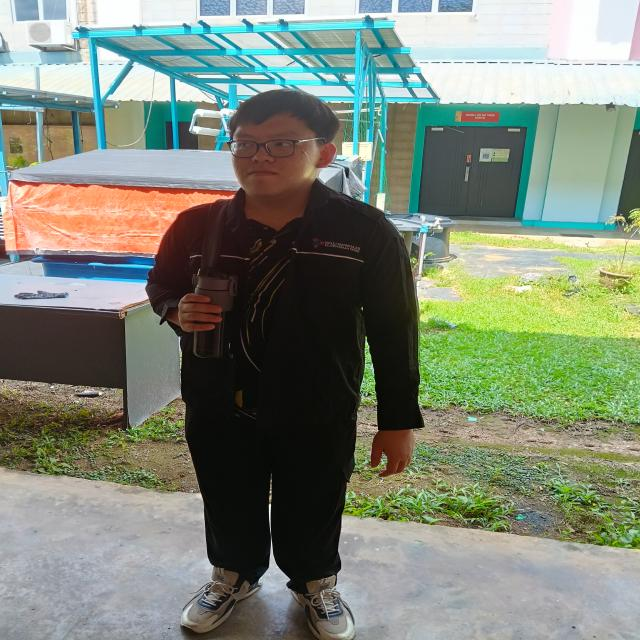person_with_labcoat: (147, 90, 423, 640)
